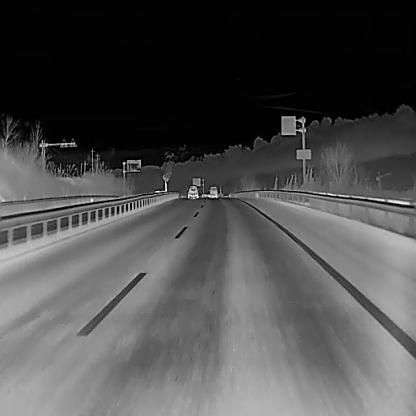car: (186, 183, 198, 199), (207, 184, 218, 198)
